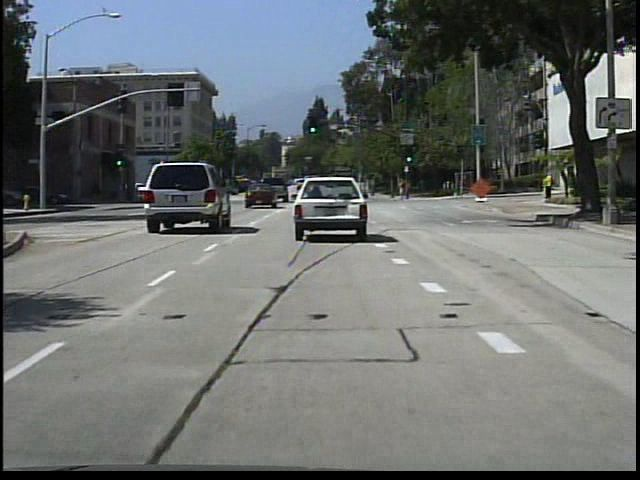person: (397, 173, 412, 204)
